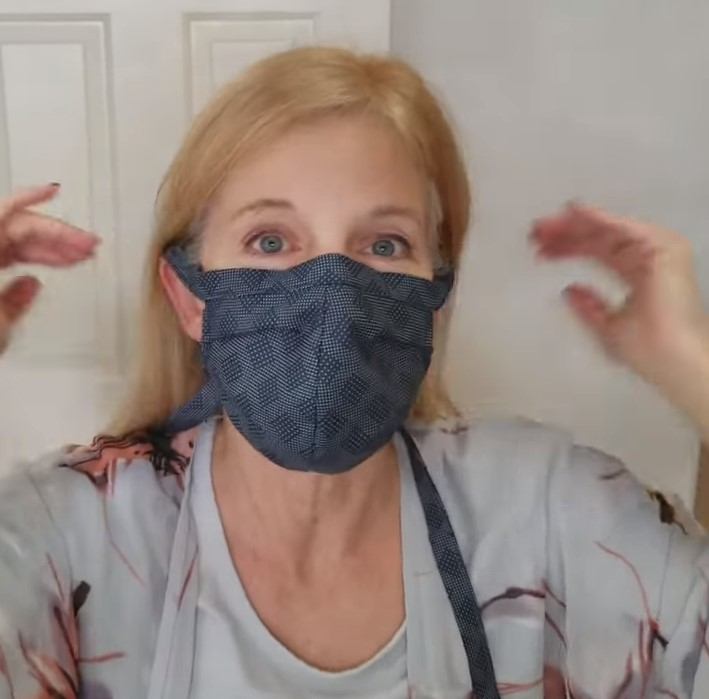face_with_mask: (157, 75, 466, 467)
